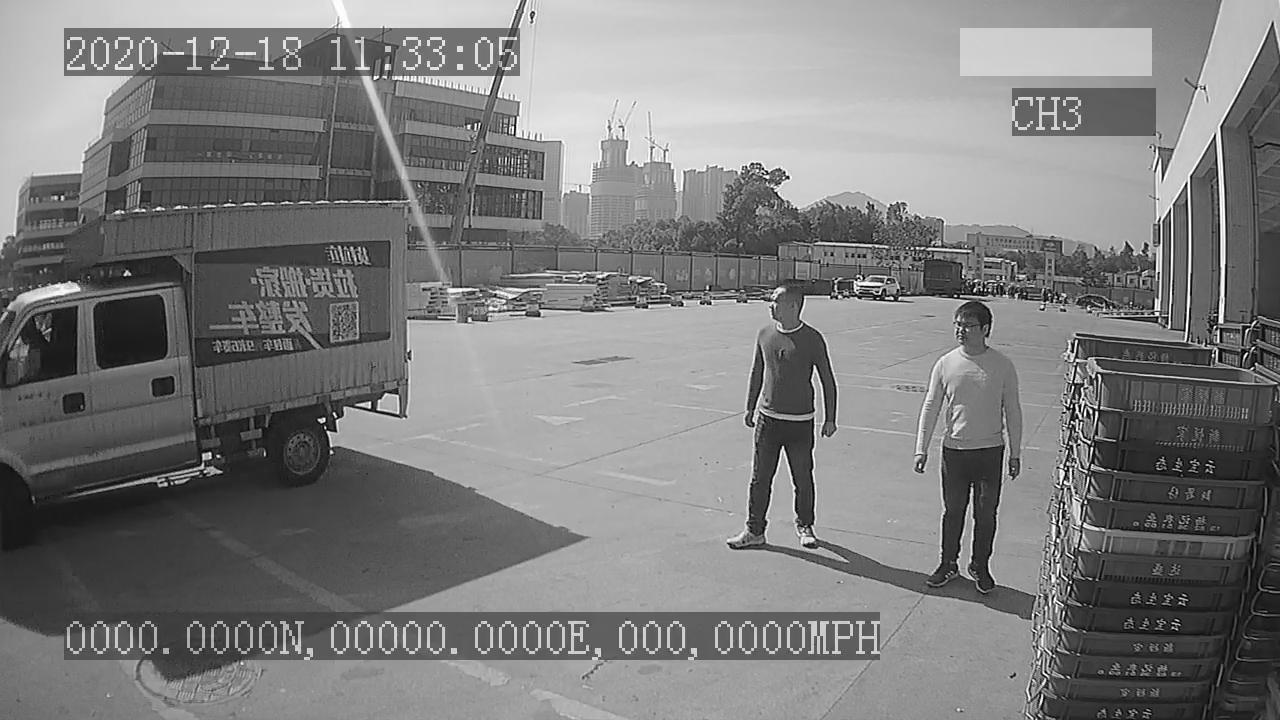person: (909, 290, 1022, 595), (727, 282, 838, 554)
